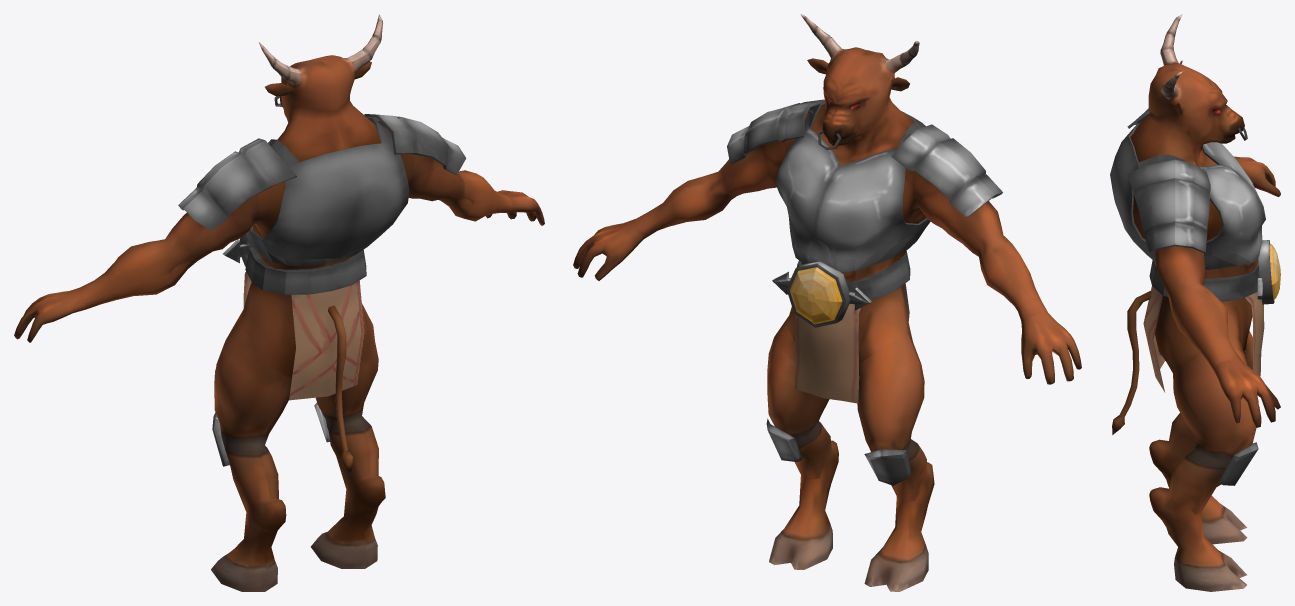
File: Minotaur.glb
3 renders of one model, left to right at view 1: azimuth 30°, elevation 25°; view 2: azimuth 150°, elevation 25°; view 3: azimuth 270°, elevation 25°, orthographic. The views are drawn at different scales.
Parts seen in each view (by area): view 1: Plane006; view 2: Plane006; view 3: Plane006.
Boxes of the visible parts, x1=… form: Plane006: x1=14, y1=14, x2=544, y2=591; Plane006: x1=573, y1=14, x2=1081, y2=591; Plane006: x1=1110, y1=14, x2=1280, y2=591.
Bounding box in the file's own units: 201 × 203 × 60.56.
2 materials, 2 textured.
